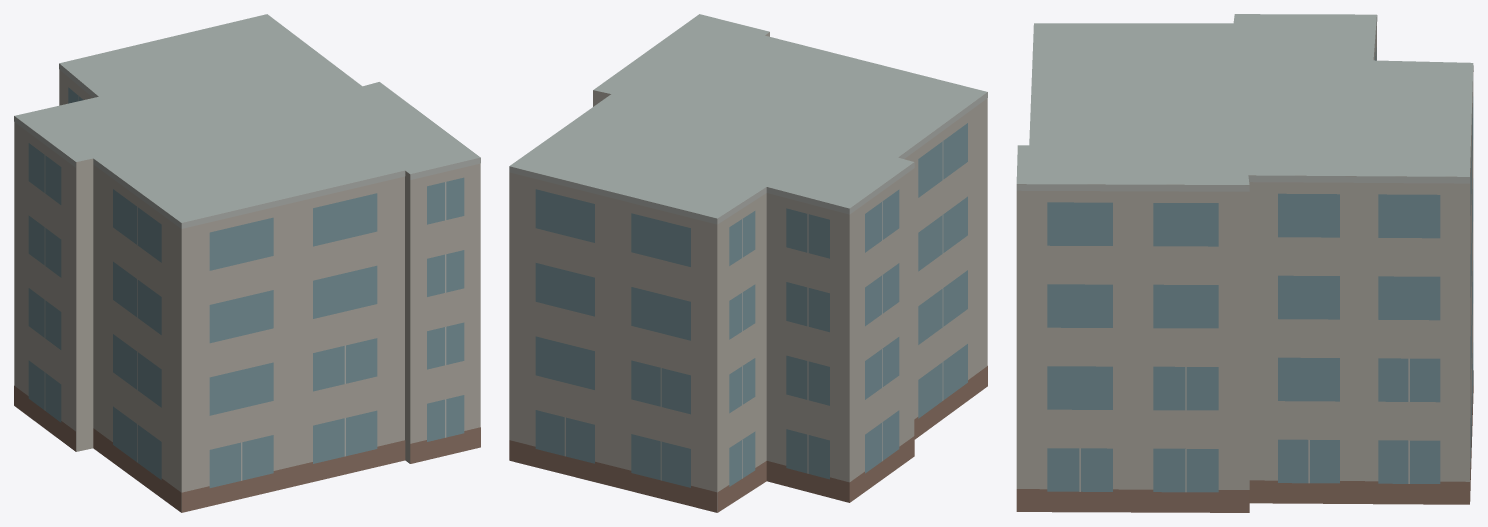
Rendered from survey-upis-32605564.glb.
3 views of the same model, side by side, from view 1: azimuth 30°, elevation 25°; view 2: azimuth 150°, elevation 25°; view 3: azimuth 270°, elevation 25° (orthographic). The views are drawn at different scales.
Parts seen in each view (by area): view 1: survey-upis-32605564.tmp; view 2: survey-upis-32605564.tmp; view 3: survey-upis-32605564.tmp.
Boxes of the visible parts, x1,y1,x2,y2 form: survey-upis-32605564.tmp: (14,14,480,512); survey-upis-32605564.tmp: (509,14,987,512); survey-upis-32605564.tmp: (1016,14,1473,512).
Bounding box in the file's own units: 13.33 × 11.9 × 15.04.
